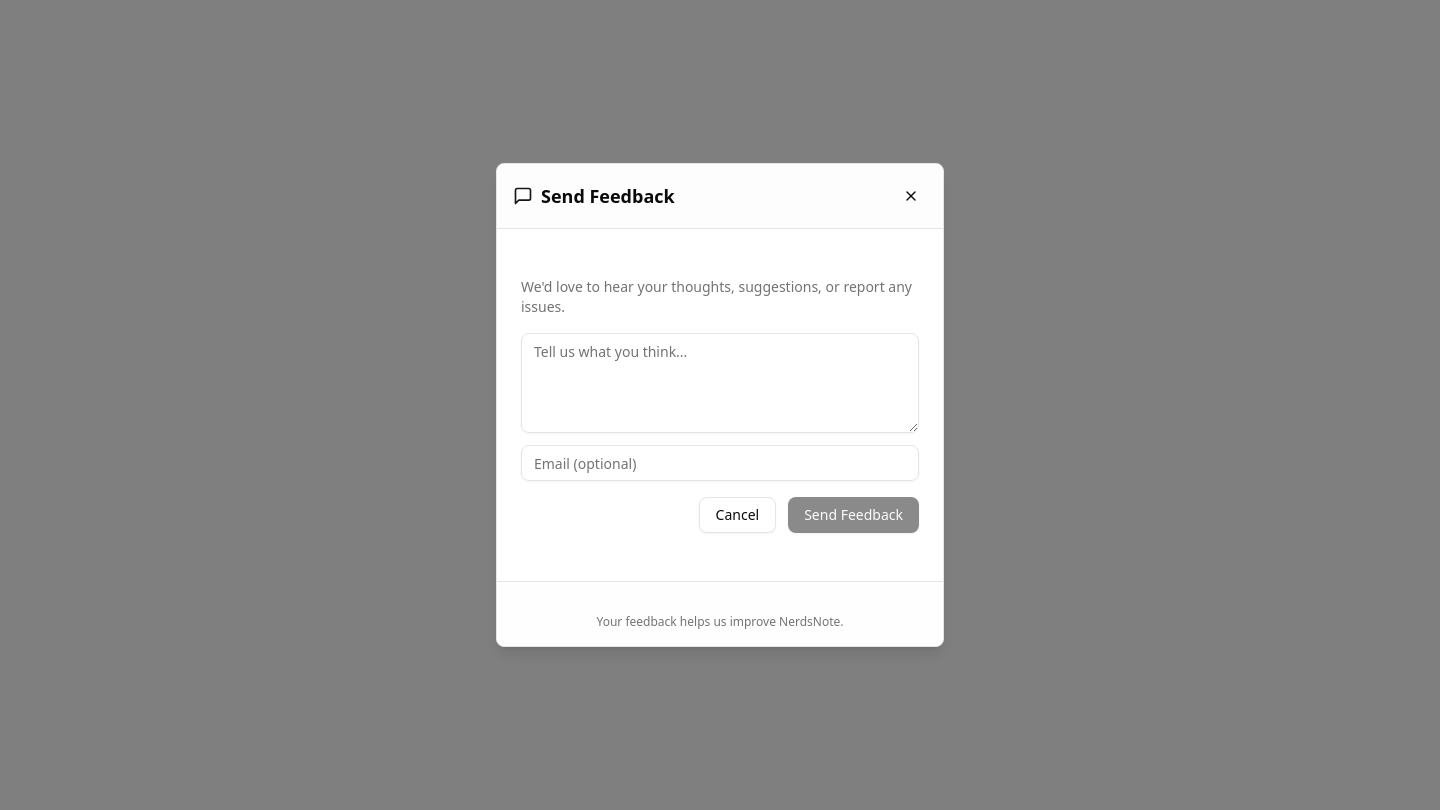
feedback dialog › writes feedback to Firestore and shows confirmation
The width and height of the screenshot is (1440, 810).
Type "  The editor feels great.  " into the text box with placeholder "Tell us what you think..." at (720, 383), box [521,333,919,433]
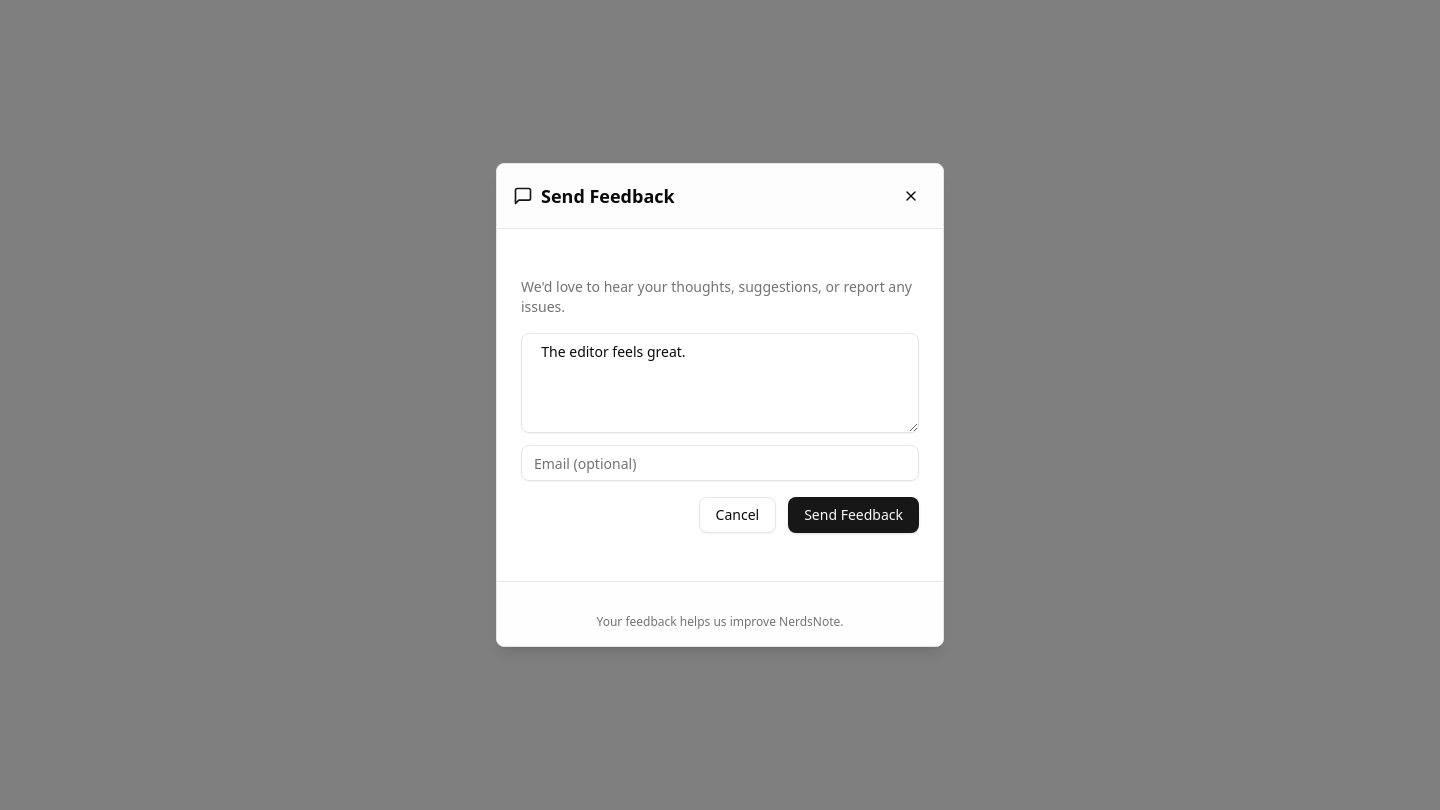
Type "reader@example.com" into the field with placeholder "Email (optional)" at (720, 463), box [521,445,919,481]
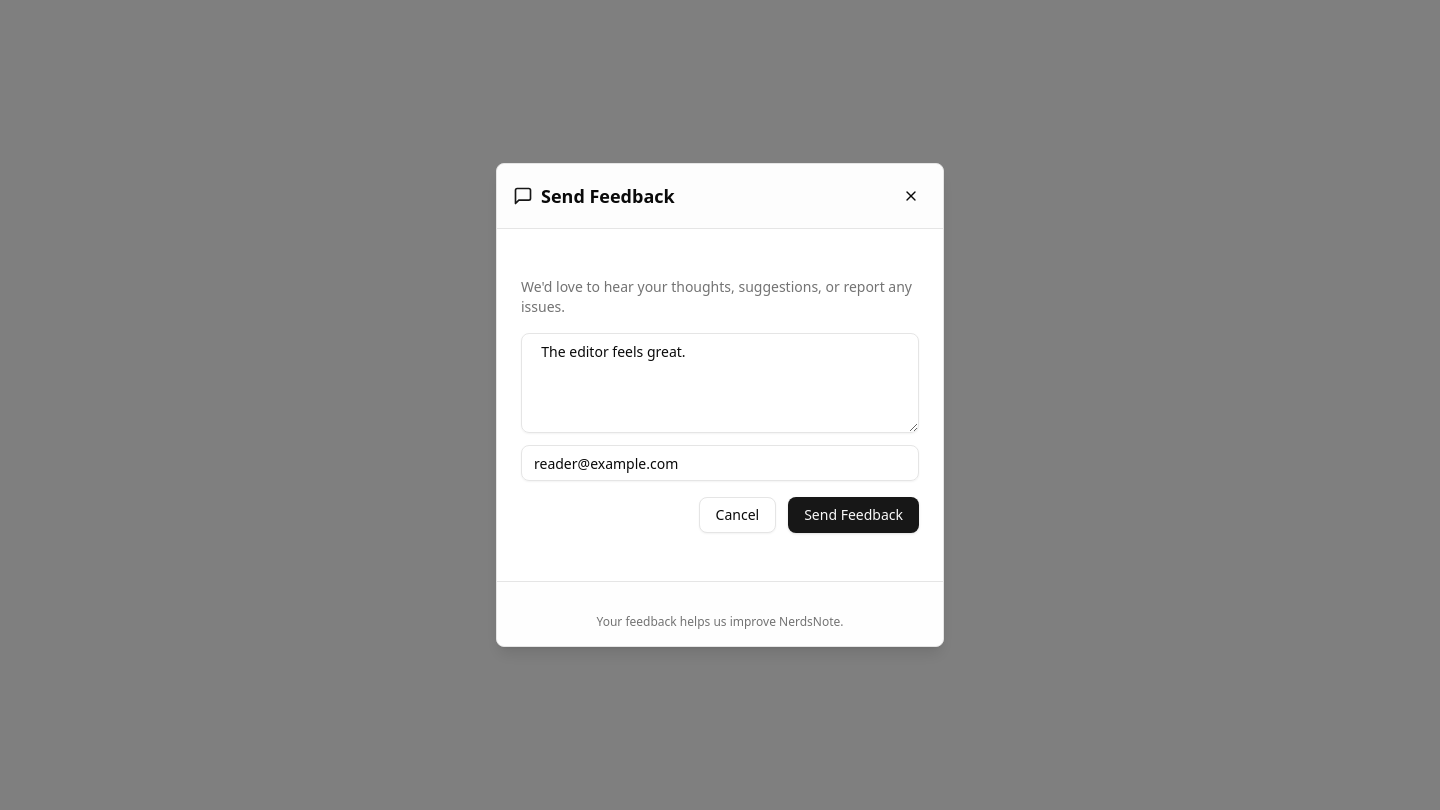
Click the button "Send Feedback" at (854, 515), box [788,497,919,533]
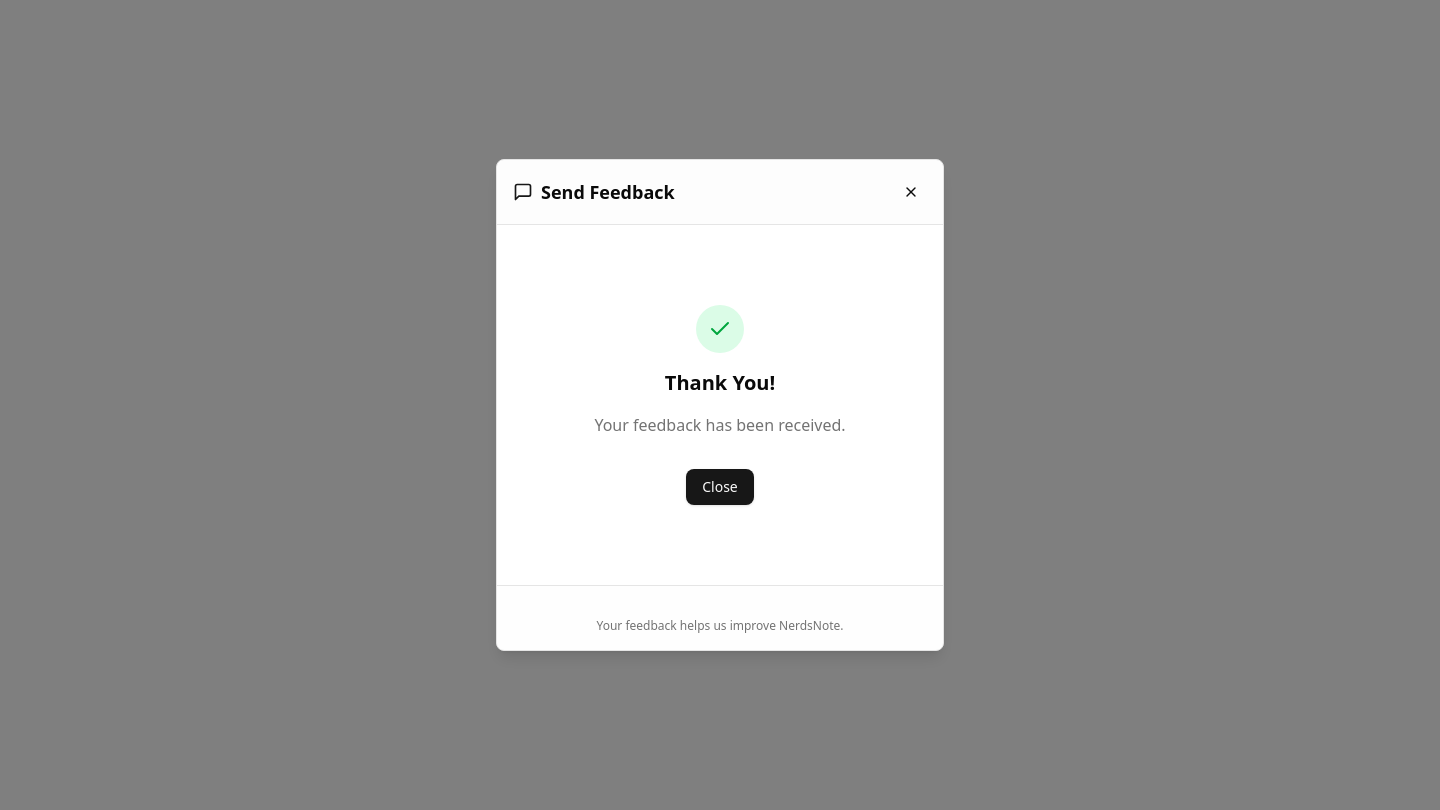
Expected: the text "Your feedback has been received." is shown, [594,413,846,437]
